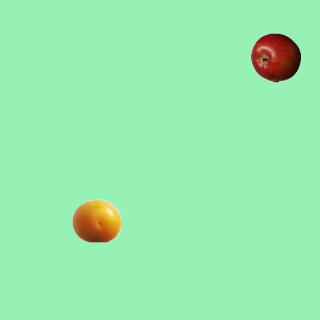Apple Braeburn: (250, 32, 300, 82)
Cherry Wax Yellow: (71, 195, 121, 245)
